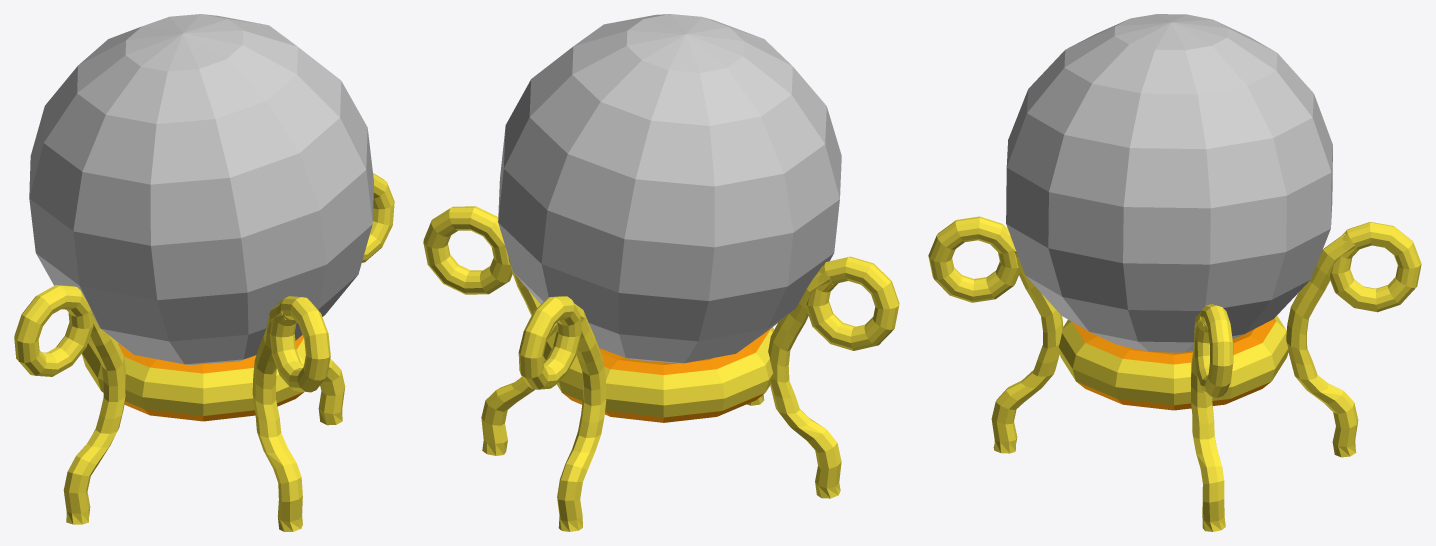
The picture shows the model from 3 angles, left to right: view 1: azimuth 30°, elevation 25°; view 2: azimuth 150°, elevation 25°; view 3: azimuth 270°, elevation 25°; orthographic projection. The views are drawn at different scales.
Parts seen in each view (by area): view 1: mesh_227739229, mesh_582222147, group_2134573744, group_1717659878, mesh_614524257, mesh_1307425882, mesh_1351587647, group_35591171; view 2: mesh_227739229, mesh_582222147, mesh_614524257, group_2134573744, group_970418930, mesh_1351587647, mesh_1374276482, group_35591171; view 3: mesh_227739229, mesh_582222147, group_970418930, mesh_1307425882, mesh_1374276482, group_1717659878, group_35591171, mesh_1351587647.
Part boxes in pixels (x1,y1,x2,y2): mesh_227739229: [29, 14, 373, 364]; mesh_582222147: [81, 335, 305, 421]; group_2134573744: [63, 314, 125, 524]; group_1717659878: [252, 300, 302, 531]; mesh_614524257: [14, 285, 93, 376]; mesh_1307425882: [270, 296, 330, 392]; mesh_1351587647: [362, 173, 394, 262]; group_35591171: [318, 359, 345, 425]; mesh_227739229: [498, 14, 841, 363]; mesh_582222147: [543, 324, 774, 422]; mesh_614524257: [806, 256, 899, 350]; group_2134573744: [768, 266, 841, 498]; group_970418930: [557, 304, 606, 531]; mesh_1351587647: [423, 206, 512, 294]; mesh_1374276482: [518, 296, 581, 389]; group_35591171: [481, 246, 555, 455]; mesh_227739229: [1006, 14, 1332, 352]; mesh_582222147: [1058, 315, 1288, 410]; group_970418930: [1286, 233, 1358, 457]; mesh_1307425882: [928, 216, 1019, 302]; mesh_1374276482: [1330, 222, 1421, 312]; group_1717659878: [991, 226, 1063, 453]; group_35591171: [1190, 313, 1225, 531]; mesh_1351587647: [1195, 304, 1233, 397].
Bounding box in the file's own units: 40.29 × 40.24 × 42.16.
